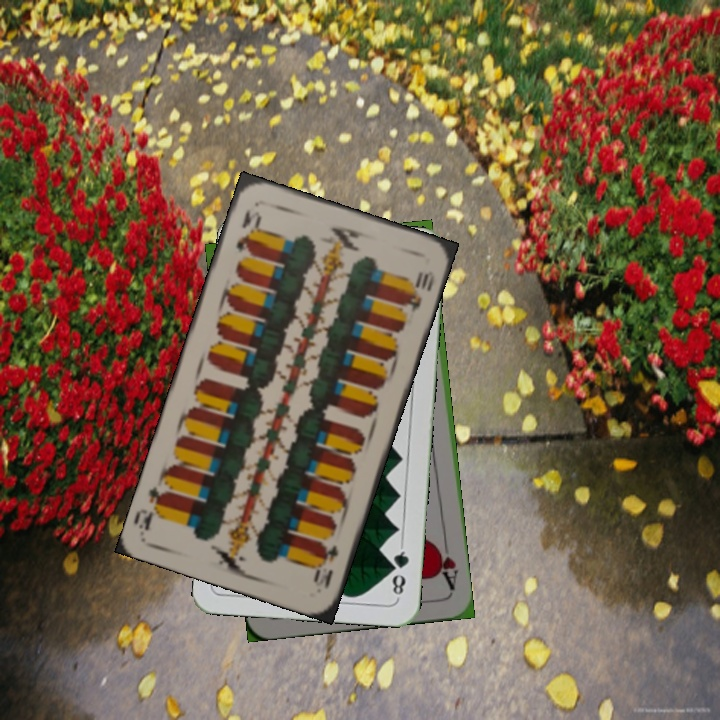E10: (309, 541, 341, 592), (231, 205, 263, 256)
G8: (387, 541, 412, 601)
HA: (431, 535, 461, 593)
